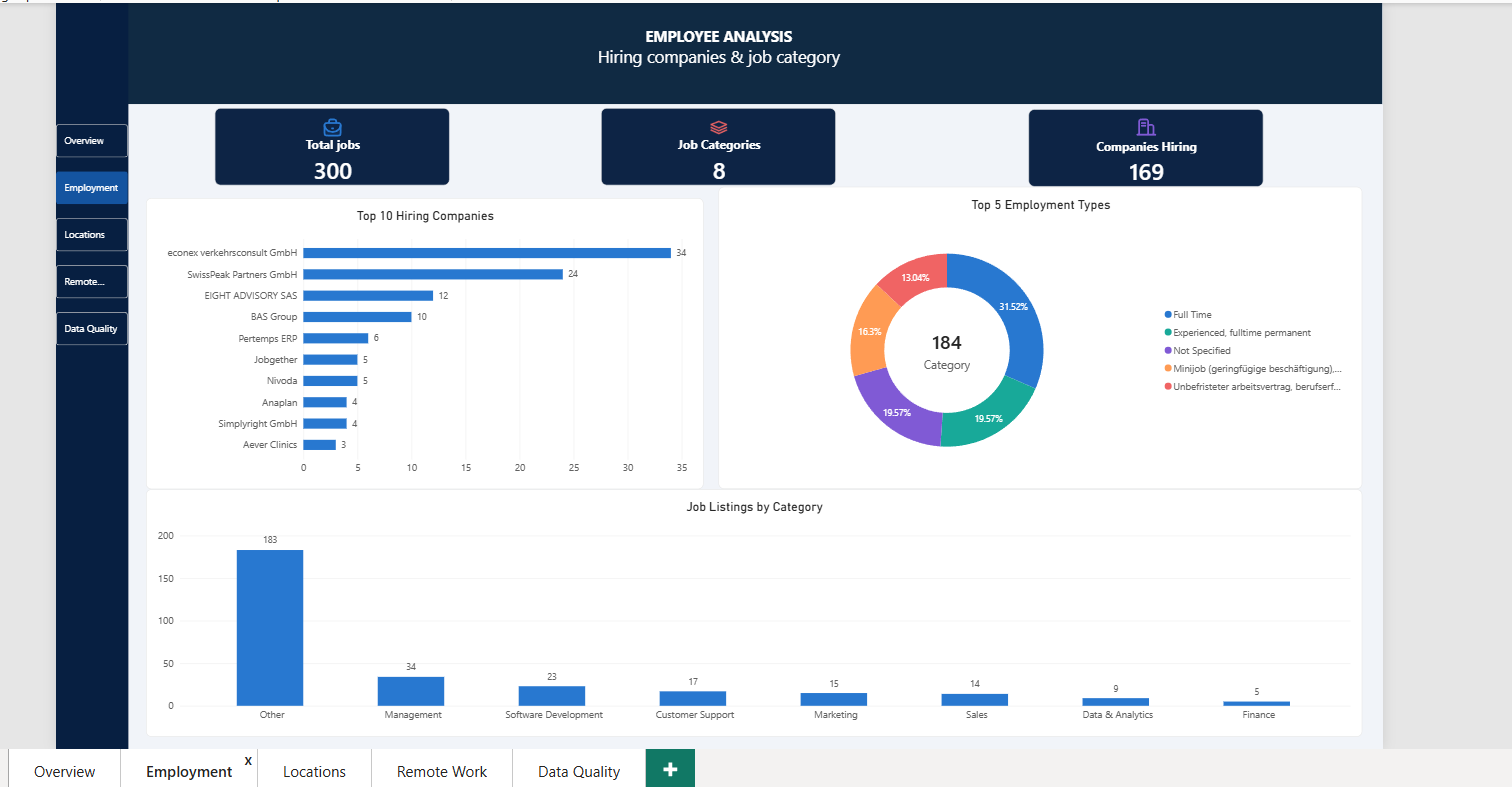

The dashboard page shown, as its layout file describes it:
{"tool":"powerbi","page":{"name":"Employment","canvas":[1920,1080],"ordinal":1},"visuals":[{"type":"clusteredBarChart","title":"\tTop 10 Hiring Companies","fields":{"Category":["public clean_jobs.company_name"],"Y":["public clean_jobs.Total jobs"]},"box":[130.3,282.3,807.1,421.7],"z":0},{"type":"donutChart","title":"Top 5 Employment Types","fields":{"Category":["public clean_jobs.employment_type"],"Y":["public clean_jobs.Total jobs"]},"box":[959.1,266,932,437.9],"z":1000},{"type":"clusteredColumnChart","title":"Job Listings by Category","fields":{"Category":["public clean_jobs.Job Category"],"Y":["public clean_jobs.Total jobs"]},"box":[130.3,704,1760.8,358.3],"z":2000},{"type":"cardVisual","title":" ","fields":{"Data":["public clean_jobs.Total jobs"]},"box":[229.8,152,340.7,112.9],"z":3000,"group":"g1"},{"type":"cardVisual","fields":{"Data":["public clean_jobs.Companies Hiring"]},"box":[1407.3,153.7,340.7,112.9],"z":4000,"group":"g1"},{"type":"cardVisual","fields":{"Data":["public clean_jobs.Job Categories"]},"box":[789.8,152,340.7,112.9],"z":5000,"group":"g1"},{"type":"image","box":[337.8,164.1,124,30.8],"z":6000,"group":"g1"},{"type":"image","box":[897.8,164.1,124,30.8],"z":7000,"group":"g1"},{"type":"image","box":[1515.8,164.1,124,30.8],"z":8000,"group":"g1"},{"type":"group","id":"g1","title":"Group 1","box":[229.8,152,1518.3,114],"z":8001},{"type":"shape","box":[0,0,1920.4,146.3],"z":8002},{"type":"textbox","box":[229.6,13,1459.3,103.7],"z":8003},{"type":"shape","box":[0,0,105,1080.4],"z":8004,"group":"g2"},{"type":"pageNavigator","box":[0,175.5,105,320.3],"z":8005,"group":"g2"},{"type":"group","id":"g2","title":"Group 2","box":[0,0,105,1080.4],"z":8006}]}

Visuals, with their boxes on the page's 1920x1080 design canvas (x1, y1, x2, y2). These are canvas units, not pixel positions in the 1512x787 screenshot, which may show the page scaled, cropped or inside an application window:
"	Top 10 Hiring Companies" clusteredBarChart: bbox=(130, 282, 937, 704)
"Top 5 Employment Types" donutChart: bbox=(959, 266, 1891, 704)
"Job Listings by Category" clusteredColumnChart: bbox=(130, 704, 1891, 1062)
" " cardVisual: bbox=(230, 152, 570, 265)
cardVisual - public clean_jobs.Companies Hiring: bbox=(1407, 154, 1748, 267)
cardVisual - public clean_jobs.Job Categories: bbox=(790, 152, 1130, 265)
image: bbox=(338, 164, 462, 195)
image: bbox=(898, 164, 1022, 195)
image: bbox=(1516, 164, 1640, 195)
"Group 1" group: bbox=(230, 152, 1748, 266)
shape: bbox=(0, 0, 1920, 146)
textbox: bbox=(230, 13, 1689, 117)
shape: bbox=(0, 0, 105, 1080)
pageNavigator: bbox=(0, 176, 105, 496)
"Group 2" group: bbox=(0, 0, 105, 1080)
